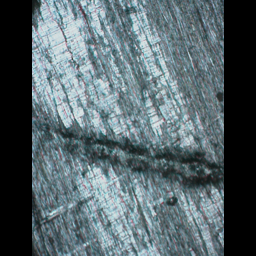d: (41, 115, 224, 187)
